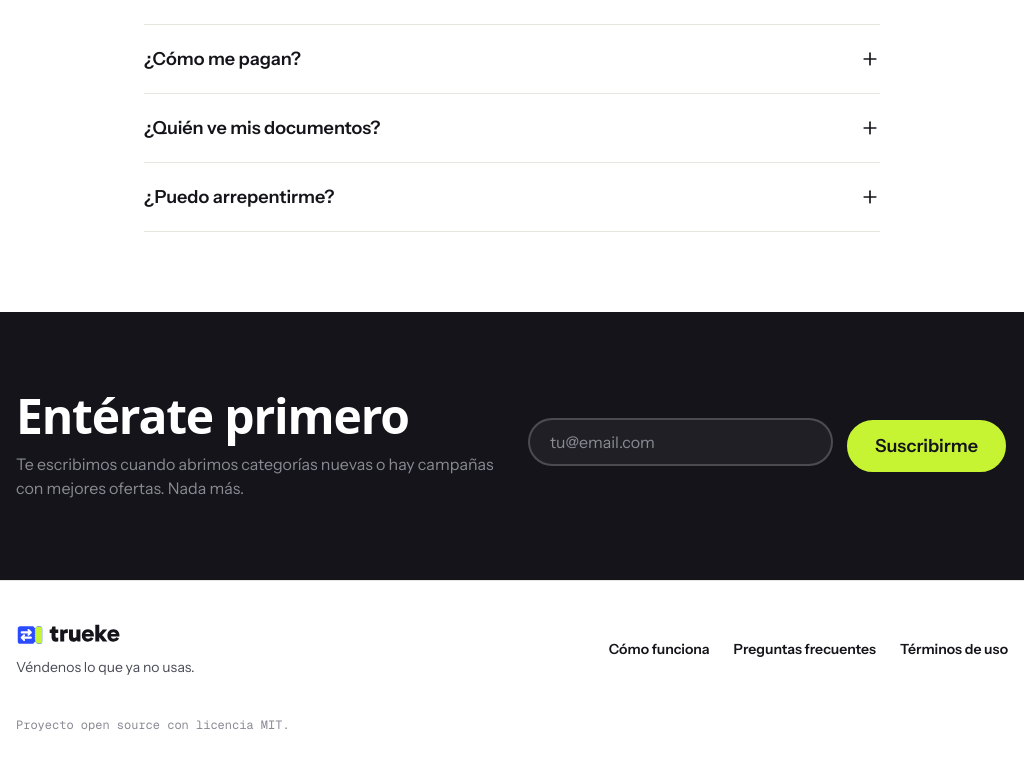
Test case: landing › newsletter: valida el email y se suscribe
(page scrolled)
Step 1. Type "no-es-email" into the field with placeholder "tu@email.com" → {"x": 681, "y": 442}, box [528,418,833,466]
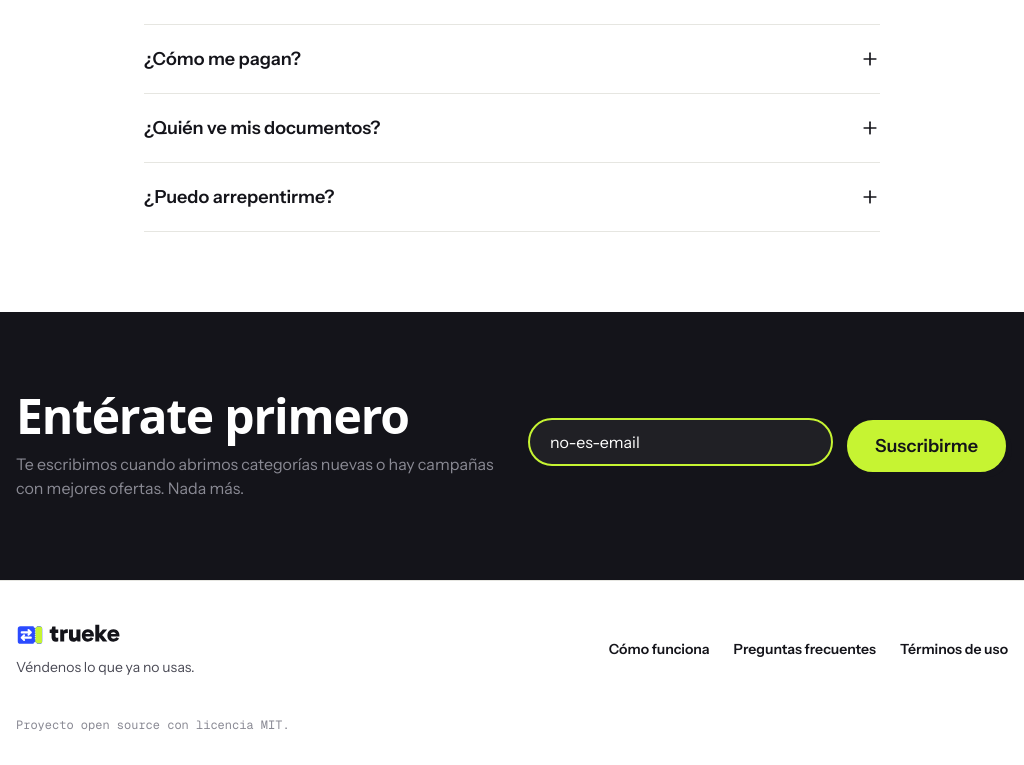
Step 2. Click the button "Suscribirme" → {"x": 927, "y": 446}, box [845,418,1008,474]
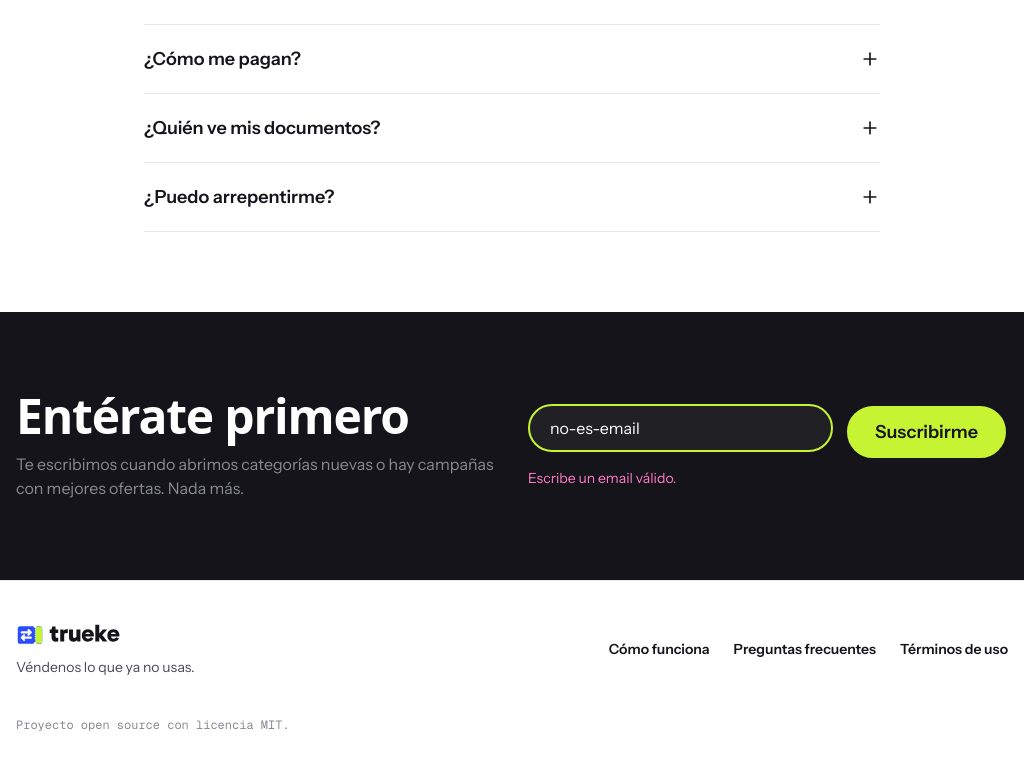
Expected: the text "Escribe un email válido." is shown, [528,469,676,487]
Step 3. Replace the text in the field with placeholder "tu@email.com" with "ana@example.com" → {"x": 681, "y": 428}, box [528,404,833,452]
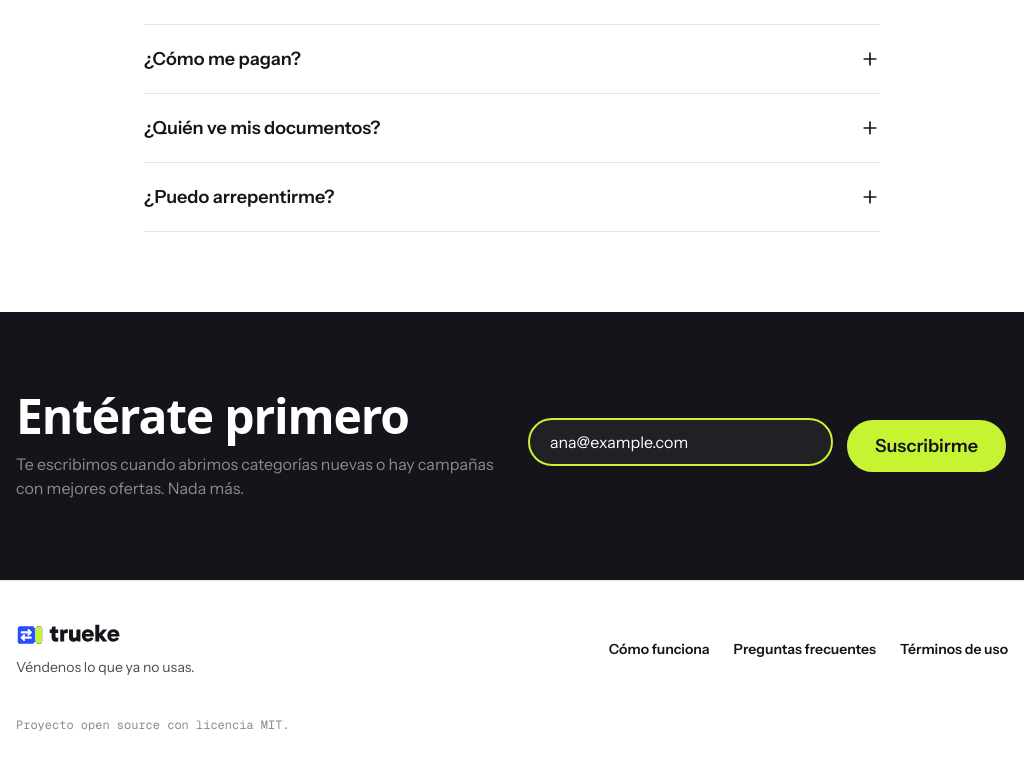
Step 4. Click the button "Suscribirme" → {"x": 927, "y": 446}, box [845,418,1008,474]
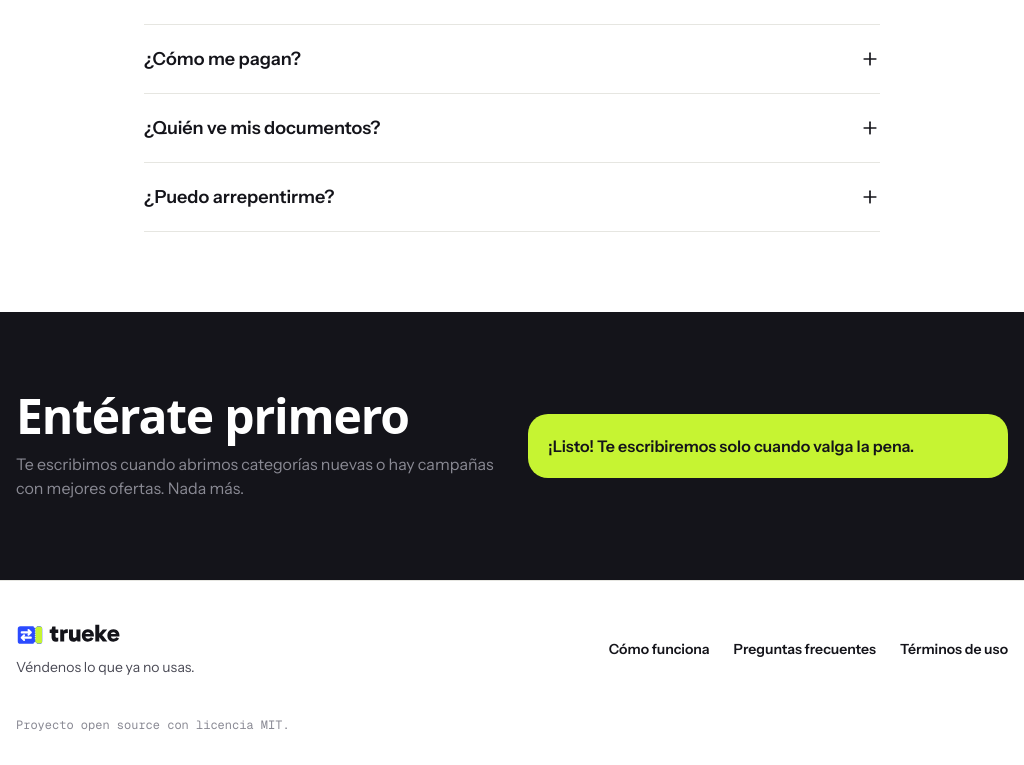
Expected: the text "¡Listo! Te escribiremos solo cuando valga la pena." is shown, [528,414,1008,478]
